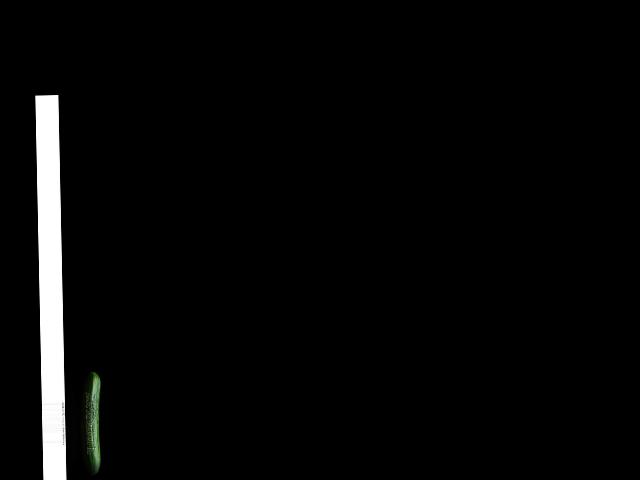cucumber: (84, 371, 101, 474)
